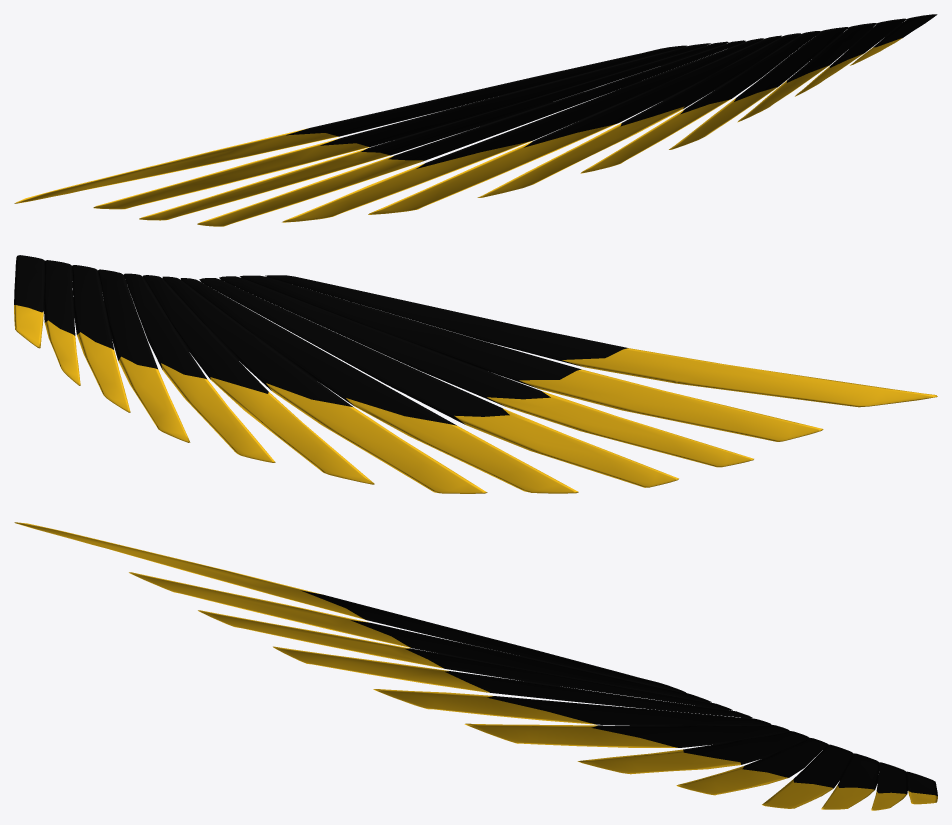
The model's file is ave2alaD.obj.
3 renders of one model, top to bottom at view 1: azimuth 30°, elevation 25°; view 2: azimuth 150°, elevation 25°; view 3: azimuth 330°, elevation 25°, orthographic. The views are drawn at different scales.
Parts seen in each view (by area): view 1: ave3:Mesh polySurface25, ave3:Mesh polySurface28, ave3:Mesh polySurface30, ave3:Mesh polySurface24, ave3:Mesh polySurface26, ave3:Mesh polySurface29, ave3:Mesh polySurface31, ave3:Mesh polySurface22, ave3:Mesh polySurface32, polySurface27 ave3:Mesh, ave3:Mesh polySurface33, ave3:Mesh polySurface23; view 2: ave3:Mesh polySurface28, ave3:Mesh polySurface25, ave3:Mesh polySurface24, ave3:Mesh polySurface29, ave3:Mesh polySurface30, ave3:Mesh polySurface26, ave3:Mesh polySurface31, ave3:Mesh polySurface22, ave3:Mesh polySurface32, polySurface27 ave3:Mesh, ave3:Mesh polySurface33, ave3:Mesh polySurface23; view 3: ave3:Mesh polySurface25, ave3:Mesh polySurface28, ave3:Mesh polySurface30, ave3:Mesh polySurface24, ave3:Mesh polySurface29, ave3:Mesh polySurface26, ave3:Mesh polySurface31, ave3:Mesh polySurface22, ave3:Mesh polySurface32, polySurface27 ave3:Mesh, ave3:Mesh polySurface33, ave3:Mesh polySurface23.
Boxes of the visible parts, x1,y1,x2,y2 form: ave3:Mesh polySurface25: (93,43,711,209); ave3:Mesh polySurface28: (14,45,686,203); ave3:Mesh polySurface30: (282,38,763,222); ave3:Mesh polySurface24: (197,40,745,226); ave3:Mesh polySurface26: (368,35,781,214); ave3:Mesh polySurface29: (139,41,728,220); ave3:Mesh polySurface31: (477,33,800,197); ave3:Mesh polySurface22: (580,31,820,173); ave3:Mesh polySurface32: (669,27,848,149); polySurface27 ave3:Mesh: (737,23,877,122); ave3:Mesh polySurface33: (795,18,907,96); ave3:Mesh polySurface23: (850,14,937,65); ave3:Mesh polySurface28: (265,275,937,407); ave3:Mesh polySurface25: (240,275,823,441); ave3:Mesh polySurface24: (199,278,678,487); ave3:Mesh polySurface29: (219,276,753,467); ave3:Mesh polySurface30: (180,278,578,493); ave3:Mesh polySurface26: (162,276,487,493); ave3:Mesh polySurface31: (143,275,374,484); ave3:Mesh polySurface22: (123,273,275,462); ave3:Mesh polySurface32: (98,269,190,442); polySurface27 ave3:Mesh: (72,265,130,412); ave3:Mesh polySurface33: (43,260,80,385); ave3:Mesh polySurface23: (14,255,44,348); ave3:Mesh polySurface25: (129,572,711,702); ave3:Mesh polySurface28: (14,522,685,692); ave3:Mesh polySurface30: (373,689,770,725); ave3:Mesh polySurface24: (273,646,752,718); ave3:Mesh polySurface29: (198,610,732,710); ave3:Mesh polySurface26: (464,723,789,747); ave3:Mesh polySurface31: (577,731,808,774); ave3:Mesh polySurface22: (676,737,827,795); ave3:Mesh polySurface32: (762,744,853,808); polySurface27 ave3:Mesh: (821,753,879,809); ave3:Mesh polySurface33: (871,762,907,810); ave3:Mesh polySurface23: (907,771,937,804).
Bounding box in the file's own units: 1.18 × 0.2107 × 0.1519.
1 material, 1 textured.
